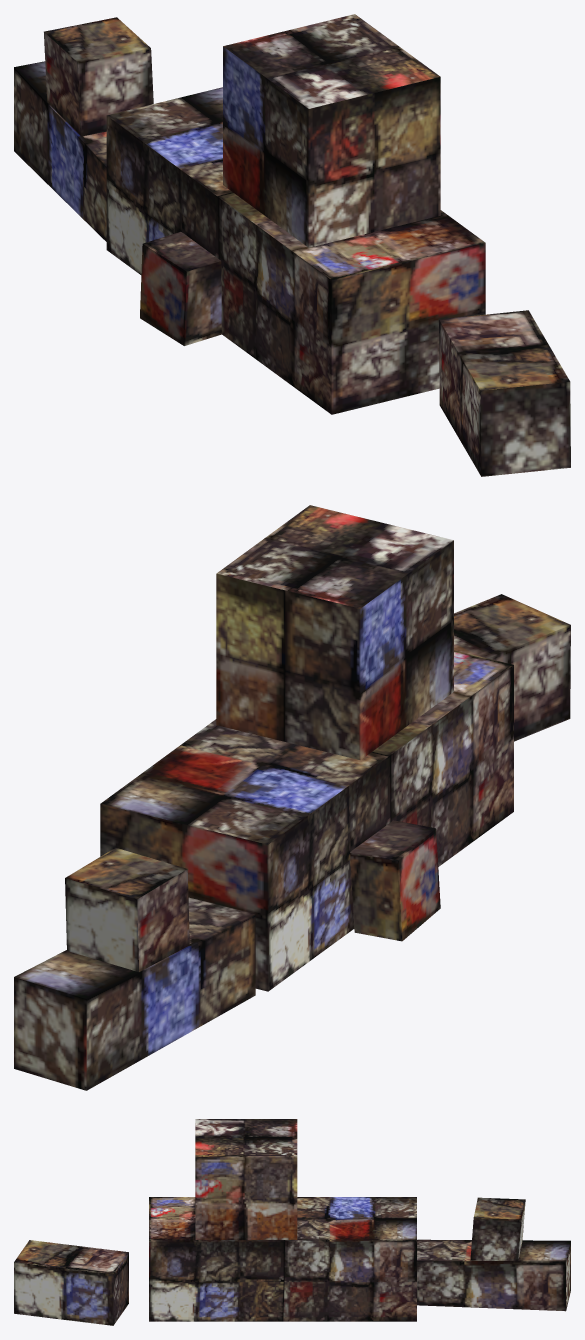
File: BnL_Tune_Up_Trash_Pile_004.fbx
The picture shows the model from 3 angles, top to bottom: view 1: azimuth 30°, elevation 25°; view 2: azimuth 150°, elevation 25°; view 3: azimuth 270°, elevation 25°; orthographic projection. The views are drawn at different scales.
Parts seen in each view (by area): view 1: Mesh_0120_rip; view 2: Mesh_0120_rip; view 3: Mesh_0120_rip.
Part boxes in pixels (x1,y1,x2,y2): Mesh_0120_rip: (14,14,570,476); Mesh_0120_rip: (14,505,570,1090); Mesh_0120_rip: (14,1119,570,1325).
Size of the model in its own units: 2.18 by 2.74 by 8.32.
Materials: 1 (1 with a texture image).
